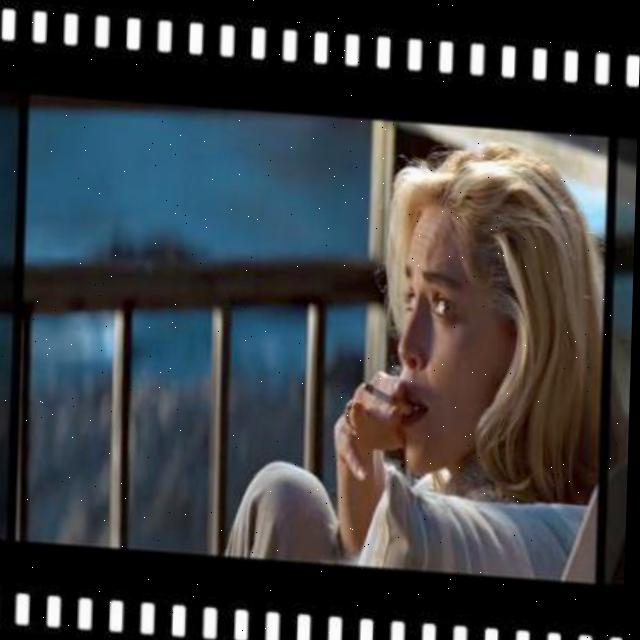cigarette: (364, 377, 415, 406)
